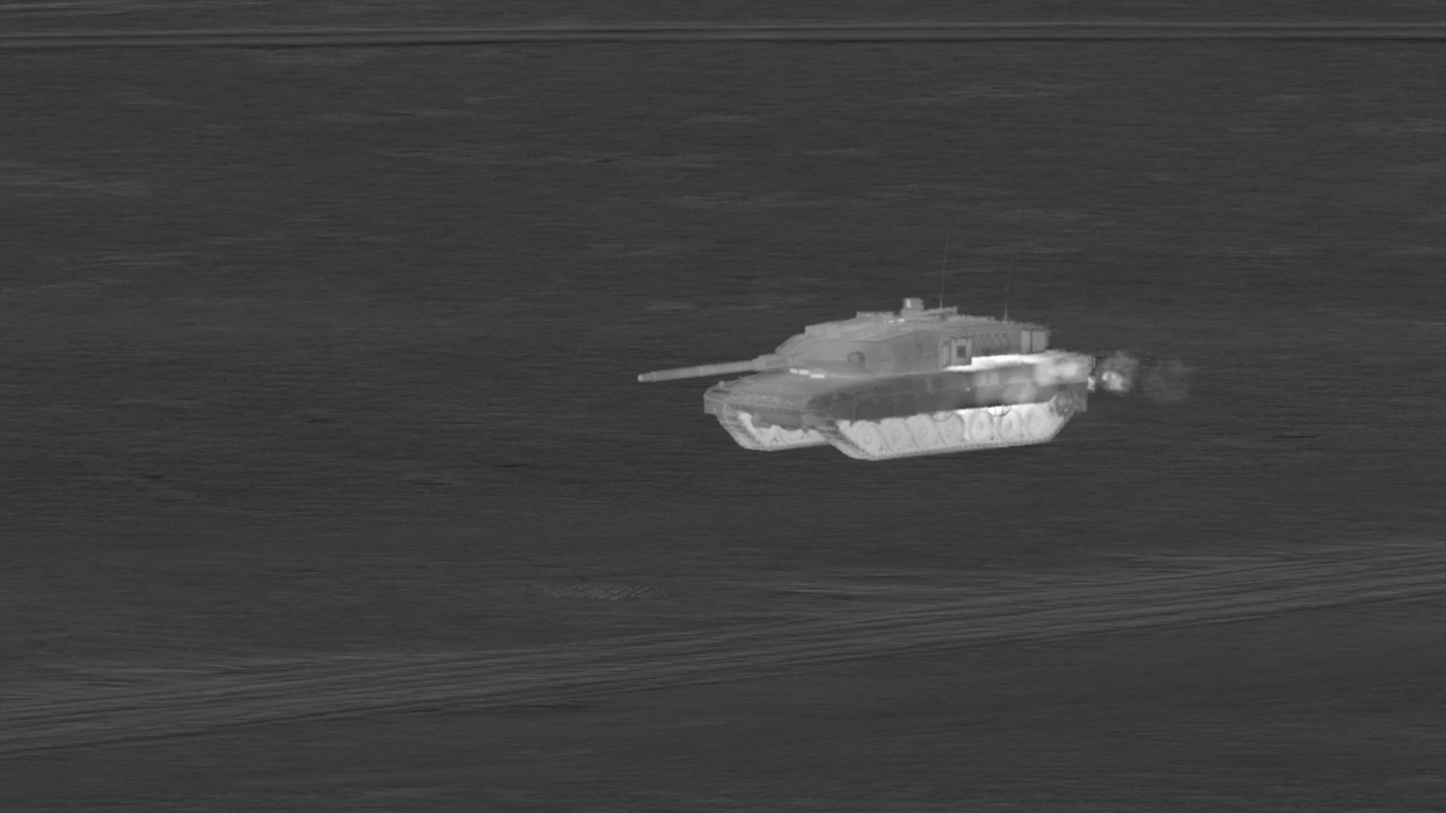leopard2: (635, 297, 1095, 462)
